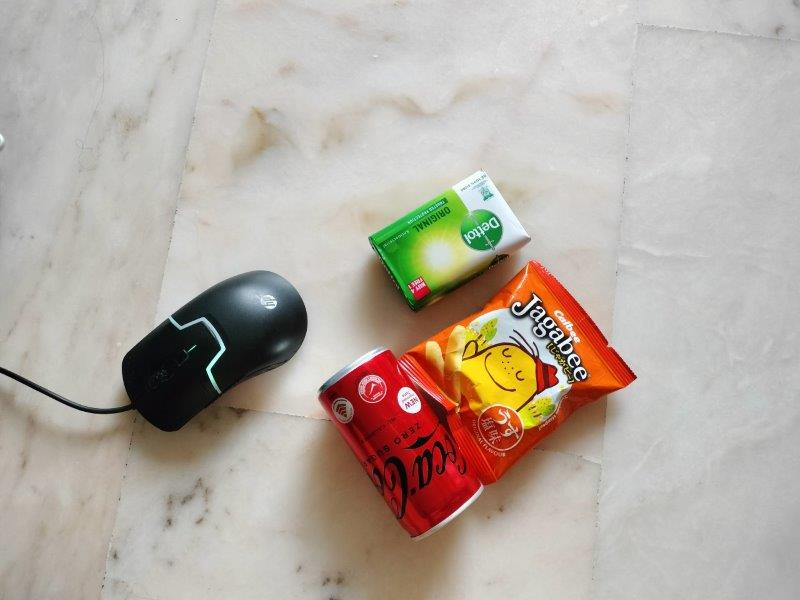Coke: (320, 348, 483, 542)
Dettol: (370, 172, 529, 309)
Jagabee: (397, 264, 638, 478)
